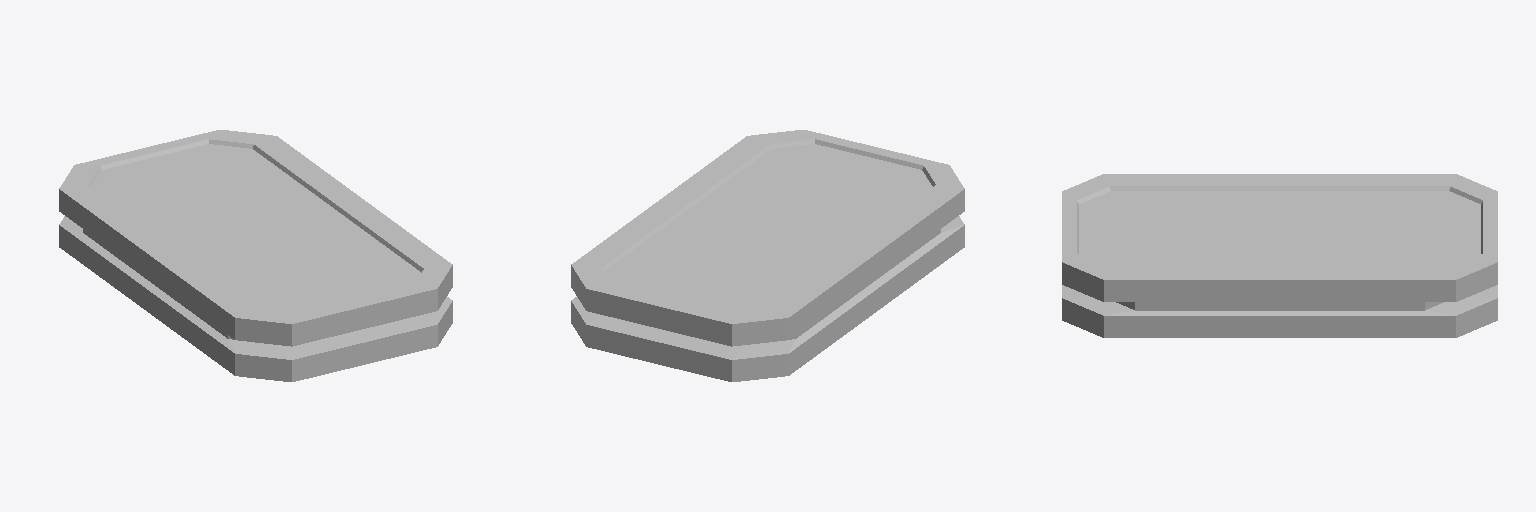
The model's file is Smore.obj.
The picture shows the model from 3 angles: view 1: azimuth 30°, elevation 25°; view 2: azimuth 150°, elevation 25°; view 3: azimuth 270°, elevation 25°; orthographic projection.
Visible parts, largest first — view 1: Smores_Cube.006; view 2: Smores_Cube.006; view 3: Smores_Cube.006.
Boxes of the visible parts, x1,y1,x2,y2 form: Smores_Cube.006: [59, 130, 452, 381]; Smores_Cube.006: [571, 130, 964, 381]; Smores_Cube.006: [1062, 174, 1497, 337].
Size of the model in its own units: 2.4 by 0.6125 by 4.15.